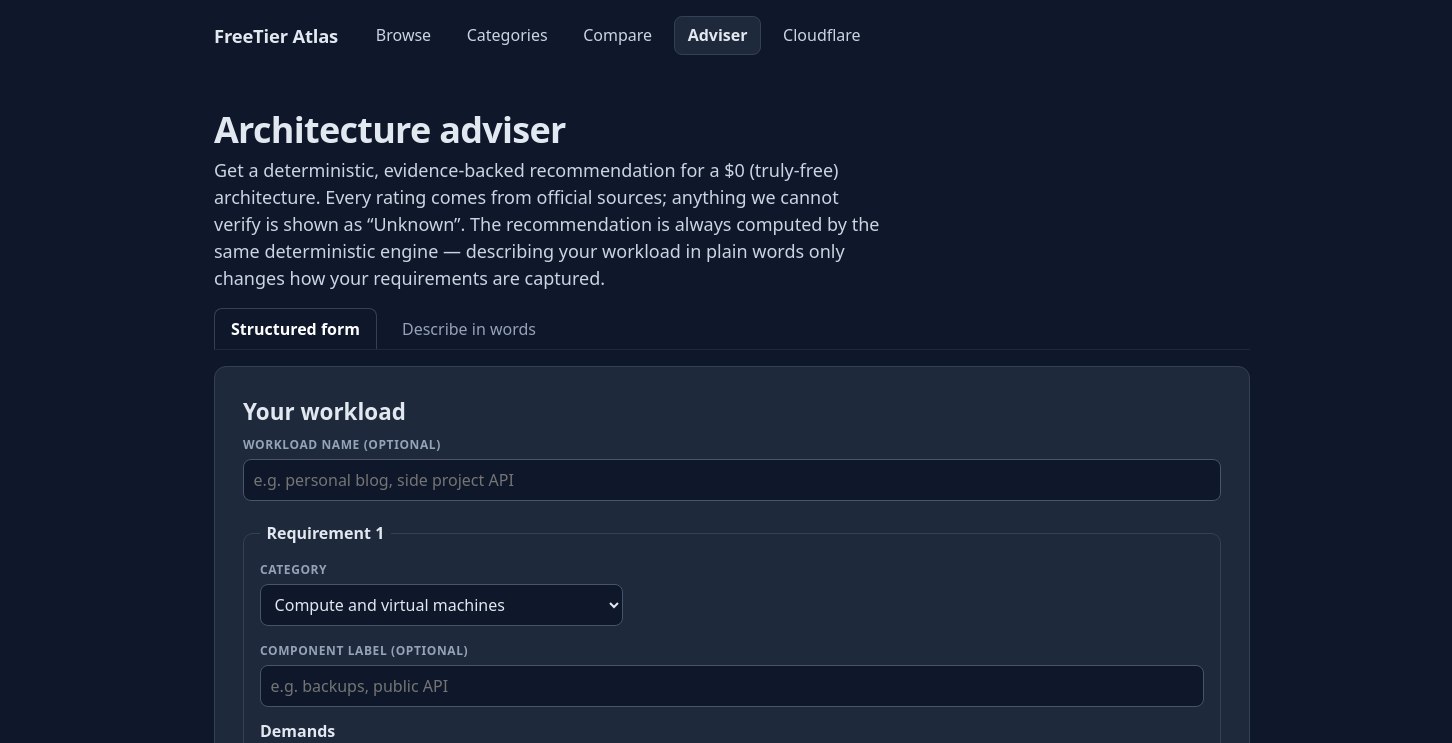
it: App — assisted natural-language adviser (F007 slice 1) › reports honestly when nothing could be interpreted (never guesses)
expect the heading "Architecture adviser" is shown: met, box [214,105,566,154]
Click the tab "Describe in words" at [469, 328], box [385,308,553,349]
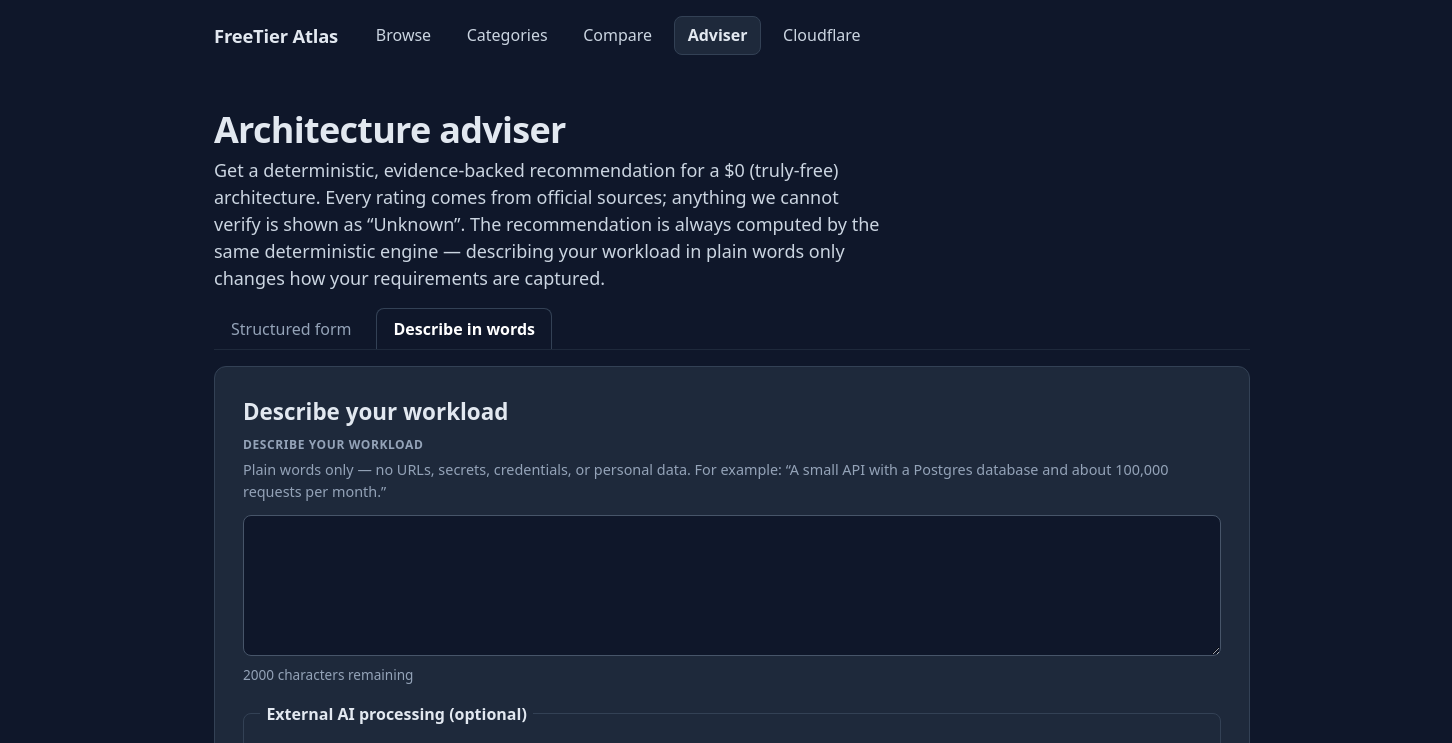
Type "gibberish with no requirements" into the text box with test id "assisted-description" at [732, 586], box [243,515,1221,656]
(page scrolled)
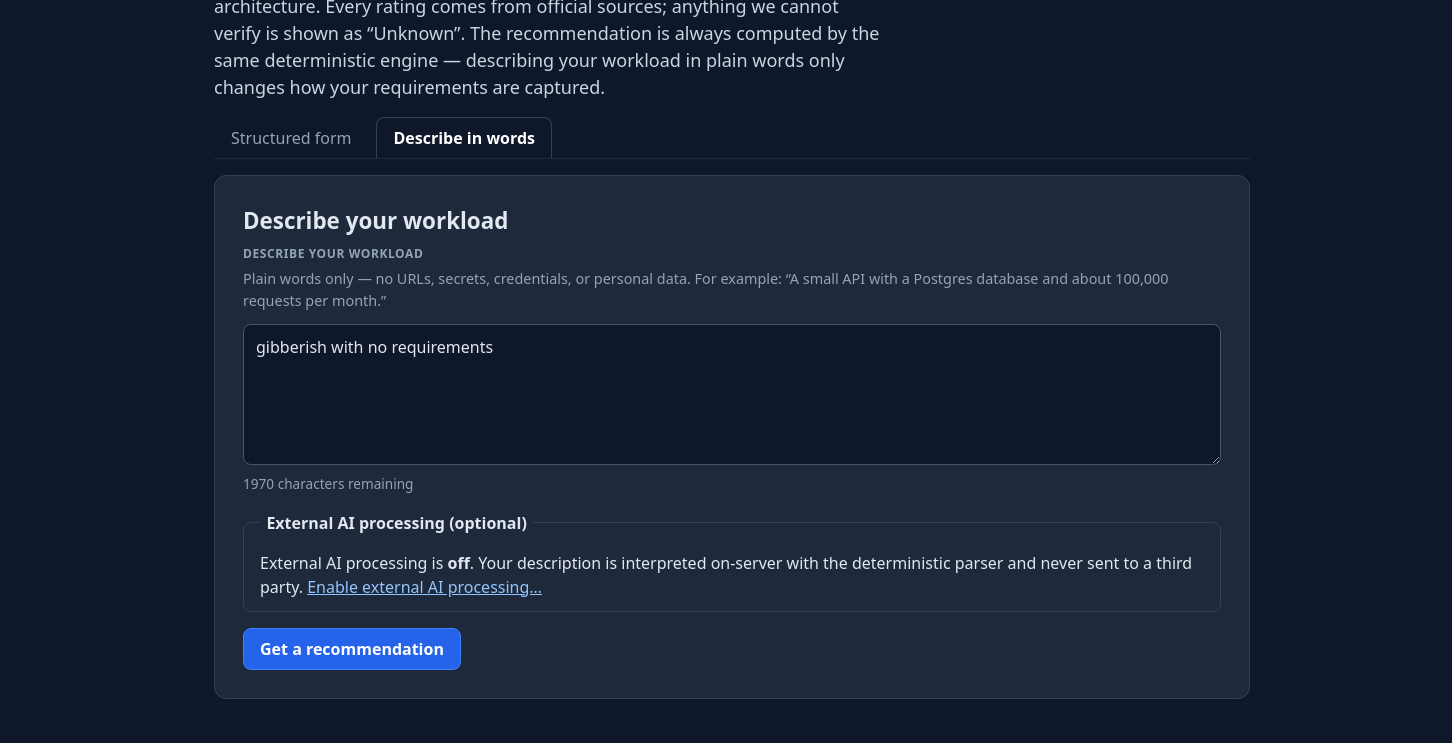
Submit the form named "describe your workload in plain words", box [243,245,1221,670]
(page scrolled)
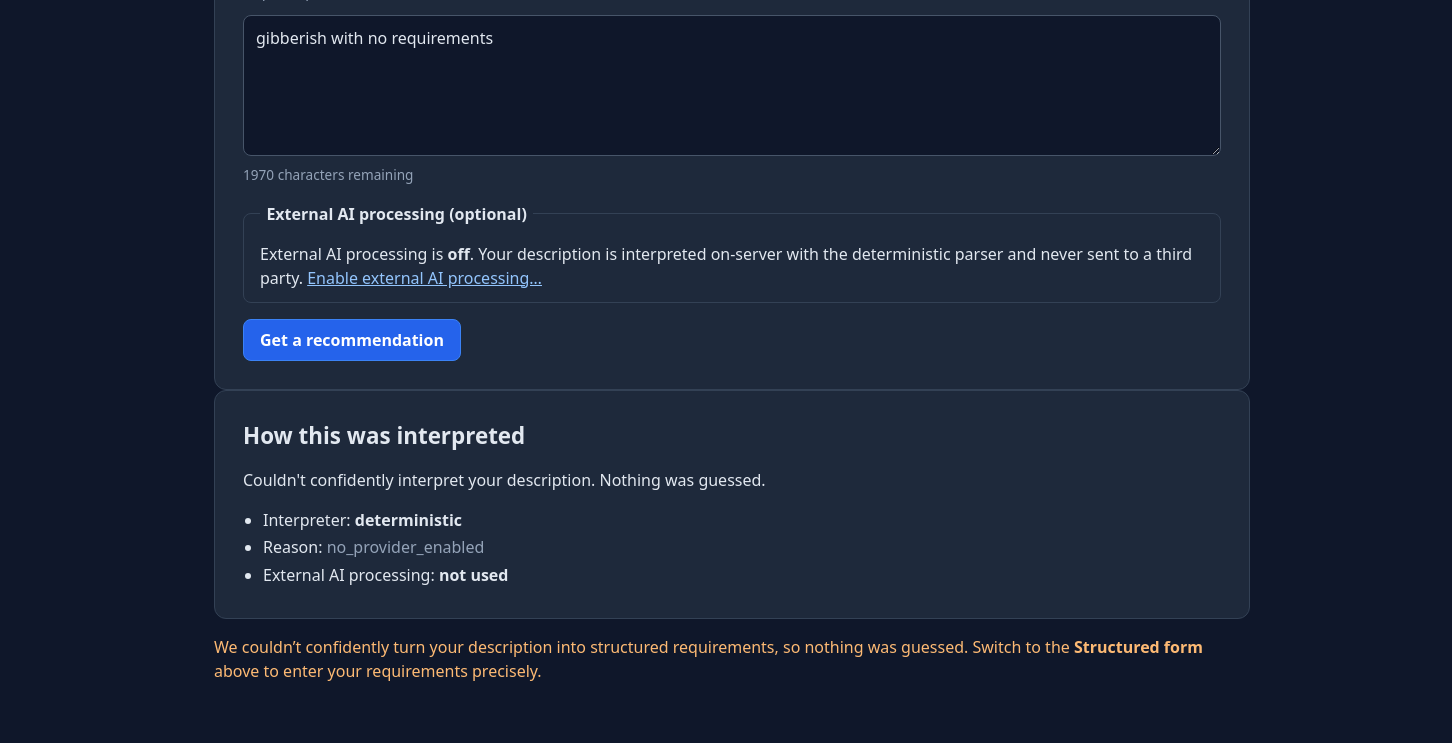
expect the message with test id "assisted-uninterpreted" is shown: met, box [214,635,1250,683]
expect the message with test id "assisted-uninterpreted" shows "nothing was guessed": met, box [214,636,1074,658]
